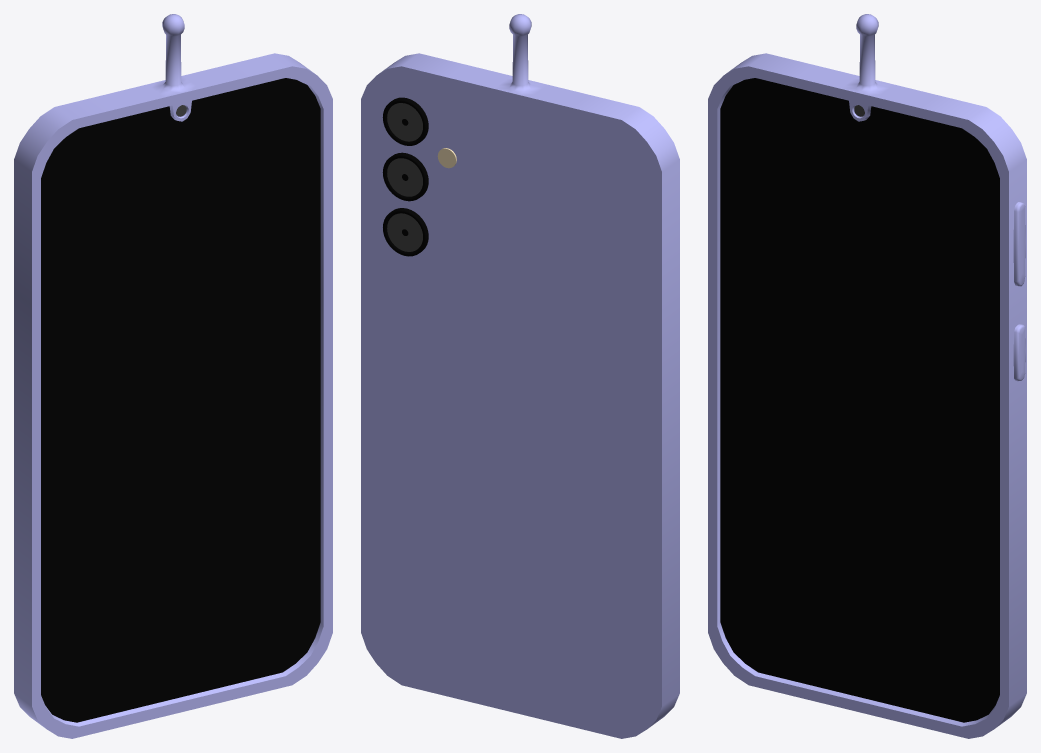
File: Reject19.fbx
3 views of the same model, side by side, from view 1: azimuth 30°, elevation 25°; view 2: azimuth 150°, elevation 25°; view 3: azimuth 330°, elevation 25° (orthographic).
Visible parts, largest first — view 1: reject.018; view 2: reject.018; view 3: reject.018.
Boxes of the visible parts, bbox=[...] form: reject.018: bbox=[14, 14, 332, 738]; reject.018: bbox=[361, 14, 679, 738]; reject.018: bbox=[708, 14, 1026, 738].
Size of the model in its own units: 1.13 by 2.43 by 0.1292.
